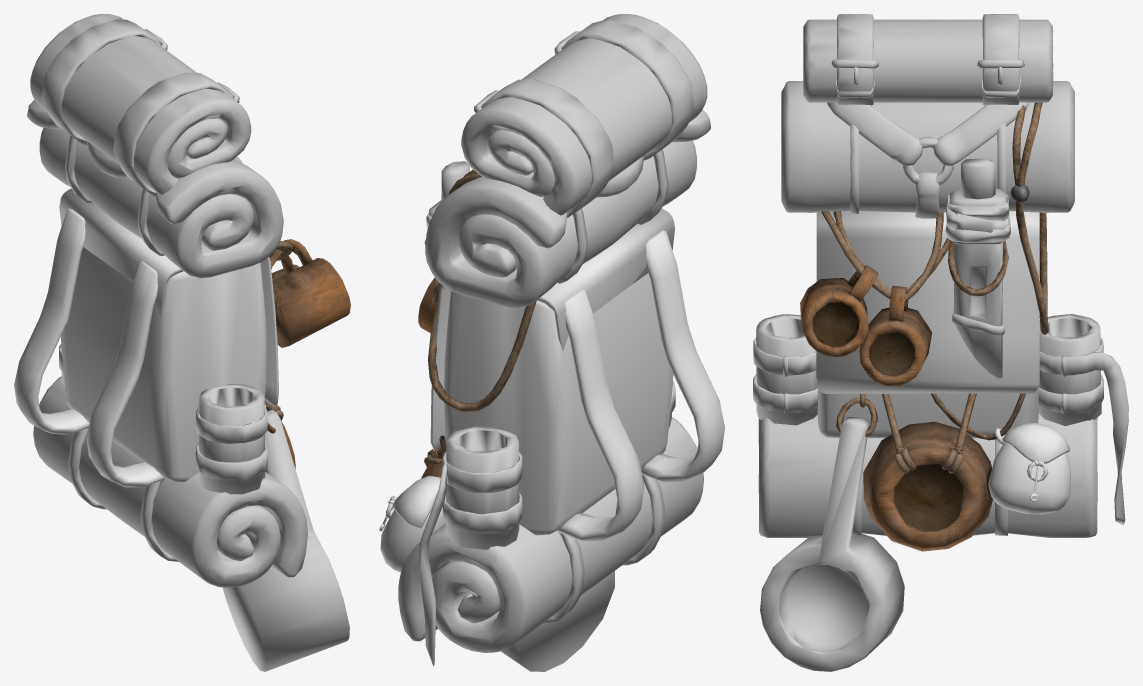
Rendered from baked.fbx.
3 renders of one model, left to right at view 1: azimuth 30°, elevation 25°; view 2: azimuth 150°, elevation 25°; view 3: azimuth 270°, elevation 25°, orthographic. The views are drawn at different scales.
Parts seen in each view (by area): view 1: Low, Low.003, Low.006, Low.004, Low.007, Low.005, Low.001; view 2: Low, Low.003, Low.006, Low.004, Low.005, Low.007, Low.009, Low.012, Low.002, Low.001; view 3: Low.004, Low, Low.003, Low.007, Low.006, Low.005, Low.008, Low.002, Low.001, Low.012, Low.009.
Part boxes in pixels (x1,y1,x2,y2): Low: (14,188,278,487); Low.003: (30,14,251,196); Low.006: (33,376,307,587); Low.004: (27,100,283,278); Low.007: (222,409,349,671); Low.005: (59,344,267,494); Low.001: (269,239,350,347); Low: (430,208,724,540); Low.003: (461,14,707,217); Low.006: (398,417,703,652); Low.004: (425,109,710,308); Low.005: (419,381,675,666); Low.007: (500,571,614,671); Low.009: (379,475,445,572); Low.012: (424,169,536,466); Low.002: (424,161,469,303); Low.001: (418,277,436,332); Low.004: (781,81,1074,218); Low: (816,211,1039,438); Low.003: (803,14,1053,105); Low.007: (760,417,904,671); Low.006: (758,414,1097,537); Low.005: (753,314,1128,525); Low.008: (863,421,992,551); Low.002: (945,158,1010,378); Low.001: (800,265,931,385); Low.012: (821,102,1048,473); Low.009: (988,423,1070,514).
Size of the model in its own units: 156 by 370 by 209.
